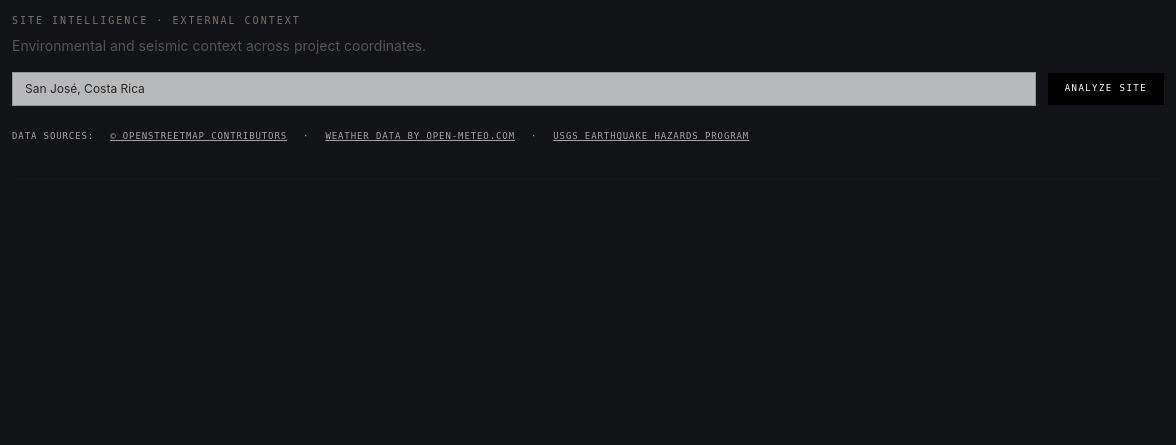
ExternalContextPanel UI Component › clears previous analysis results when a subsequent geocode fails
This screenshot has width=1176, height=445.
Click the button with test id "site-intelligence-analyze".
click(1106, 89)  # box [1048,73,1164,105]
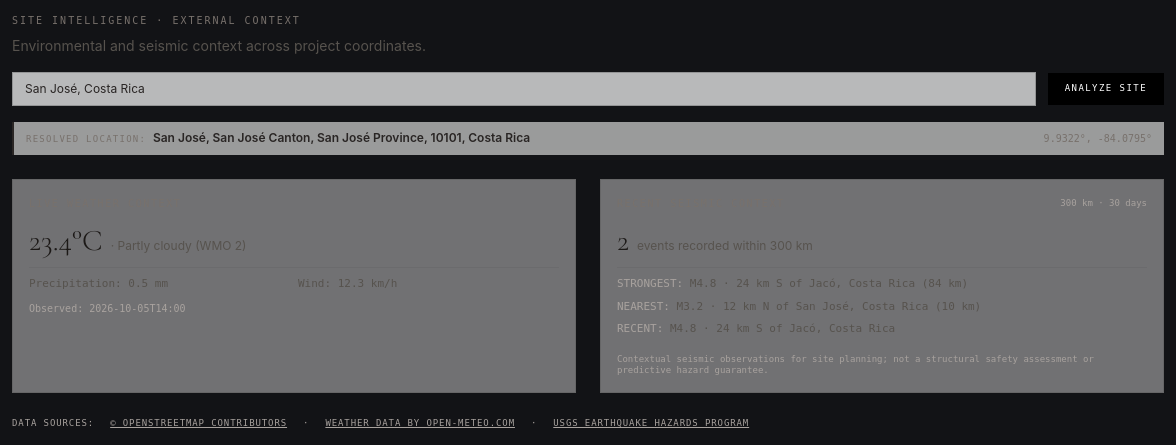
Expected: the element with test id "site-intelligence-location" is shown, [12,122,1164,155]
Expected: the element with test id "site-intelligence-weather" is shown, [12,179,576,393]
Expected: the element with test id "site-intelligence-seismic" is shown, [600,179,1164,393]
Replace the text in the field with test id "site-intelligence-input" with "Nonexistent Place XYZ" at (524,89), box [12,72,1036,106]
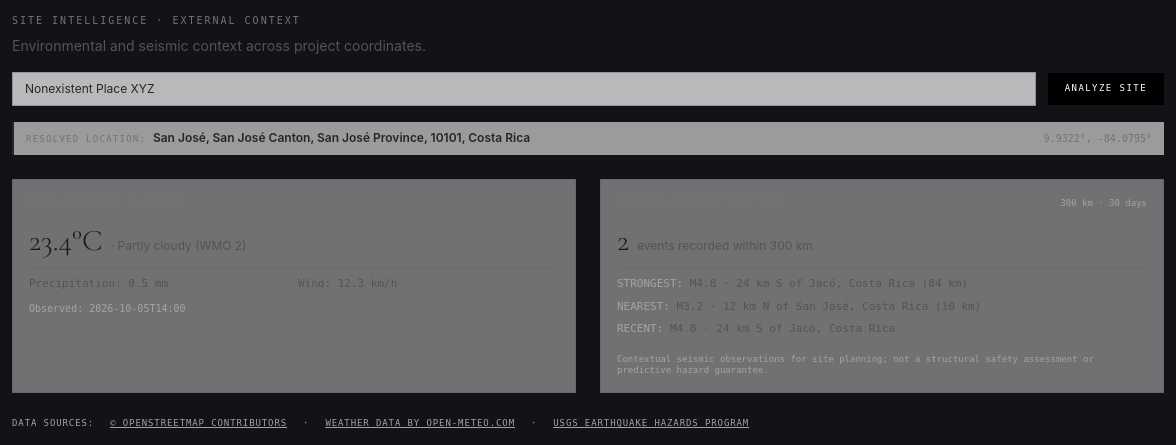
Click the button with test id "site-intelligence-analyze".
click(1106, 89)  # box [1048,73,1164,105]
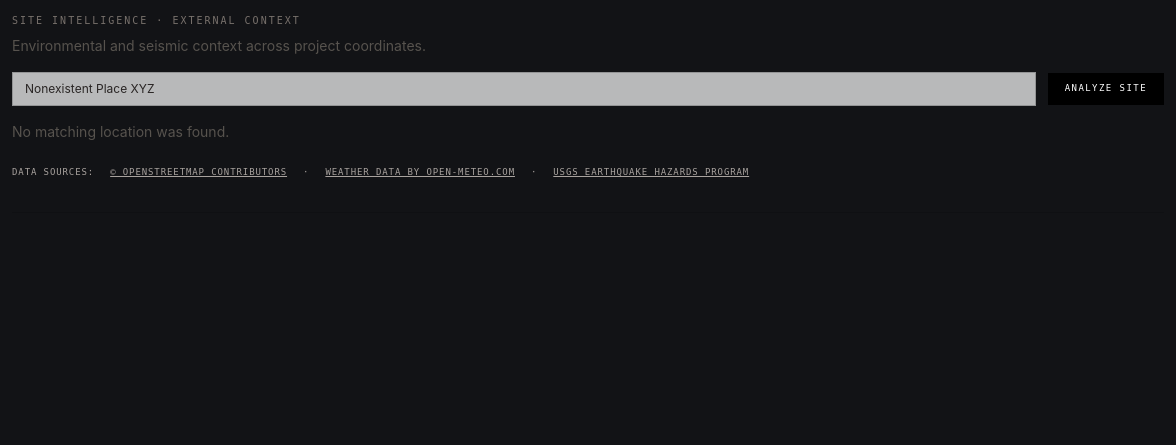
Expected: the message "No matching location was found." is shown, [12,123,229,140]
Expected: the element with test id "site-intelligence-location" is gone
Expected: the element with test id "site-intelligence-weather" is gone
